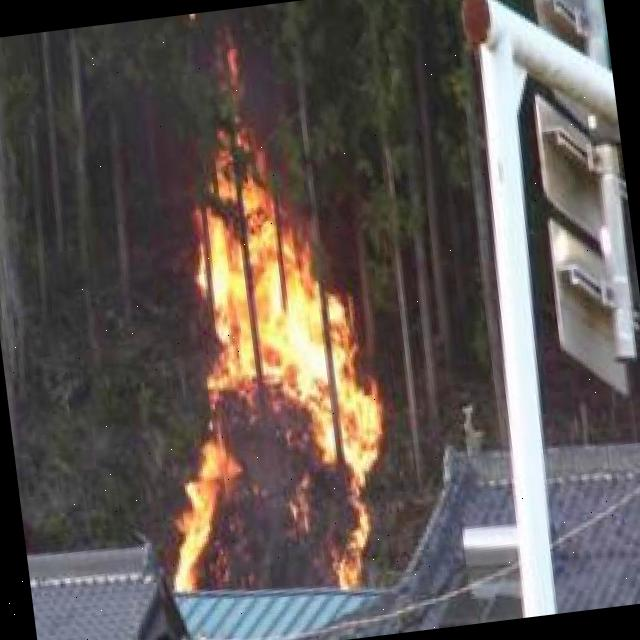fire: (122, 120, 398, 582)
